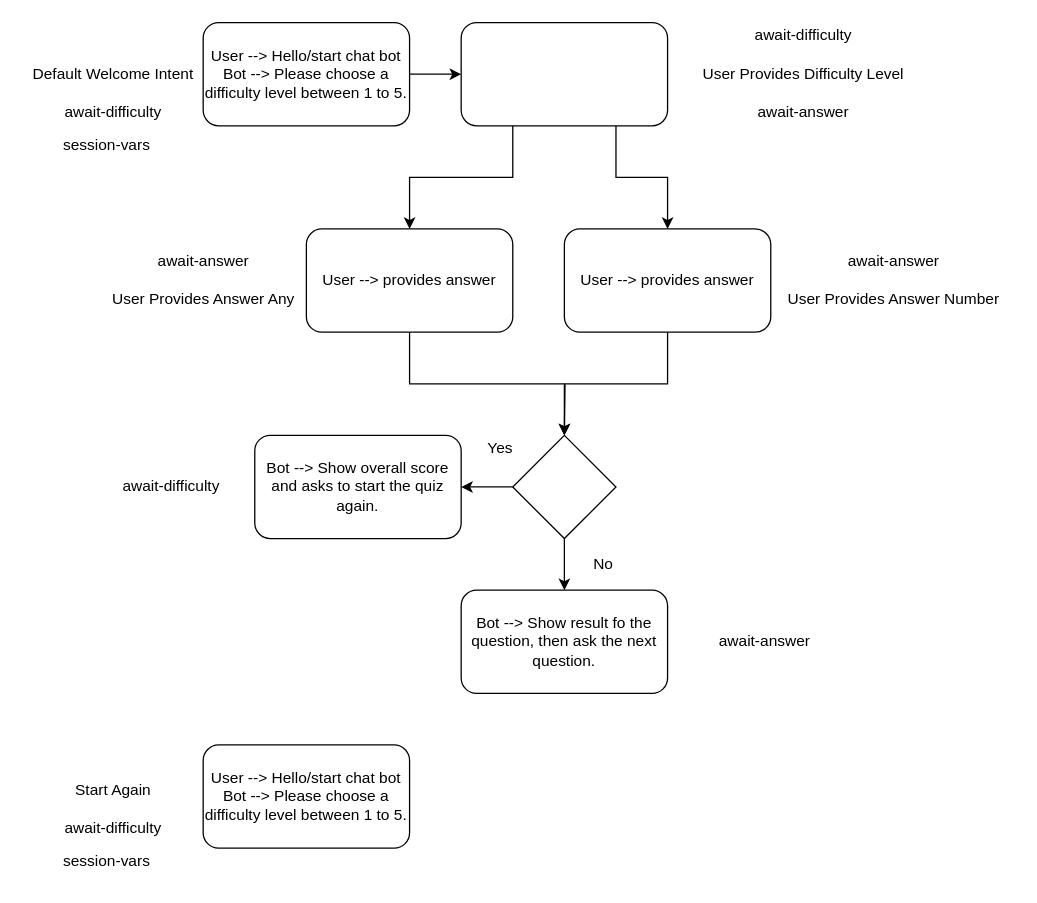
This 1037x903 diagram has some shape labels left out. Here are the shapes that lost their labels. From the top down, the centre of each, then its label:
At point 564,73: "User --> 5 Bot --> Asks first question".
At point 563,486: "Last question?".
